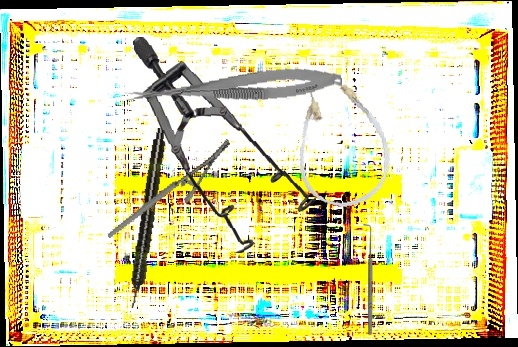Cannula: (282, 68, 400, 215)
Handpiece: (124, 126, 170, 310)
Hook Surgical: (363, 224, 374, 335)
Micro Scissor: (123, 61, 344, 116)
Needle Holder: (90, 138, 247, 239)
Speculum: (132, 25, 320, 260)
